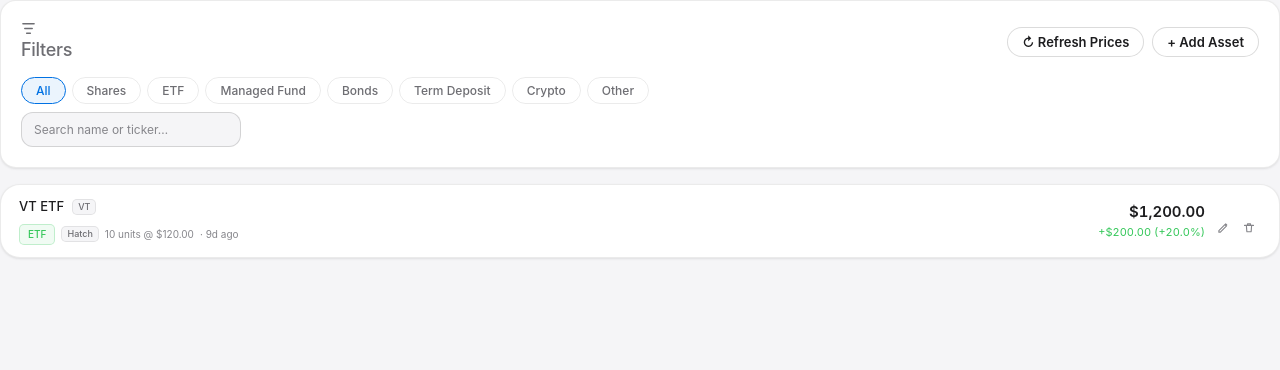
Test case: InvestmentAssets — no-match filter state › shows no-match message when filters exclude all
# Filter by Shares (none exist)
Click the button "Shares". click: (106, 90)
box: [72,77,141,104]
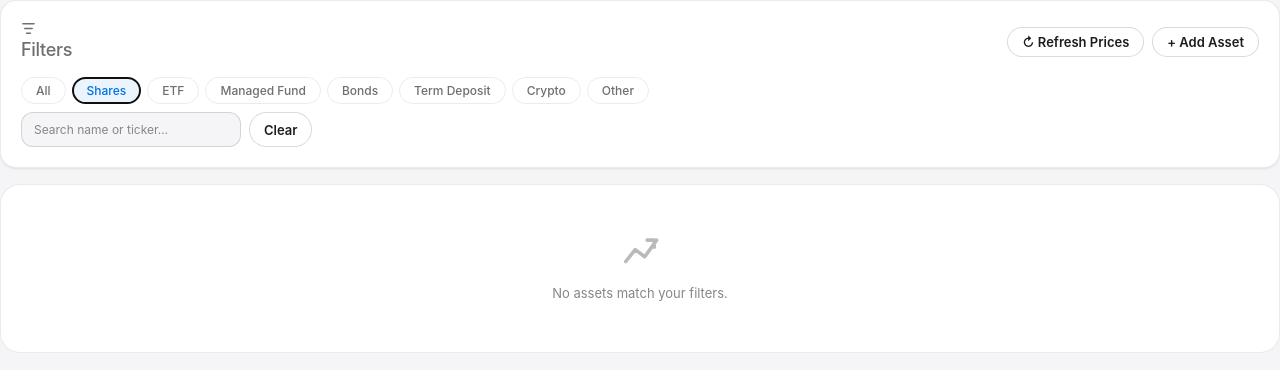
Result: the text "No assets match your filters." is shown at [552,283,728,304]
